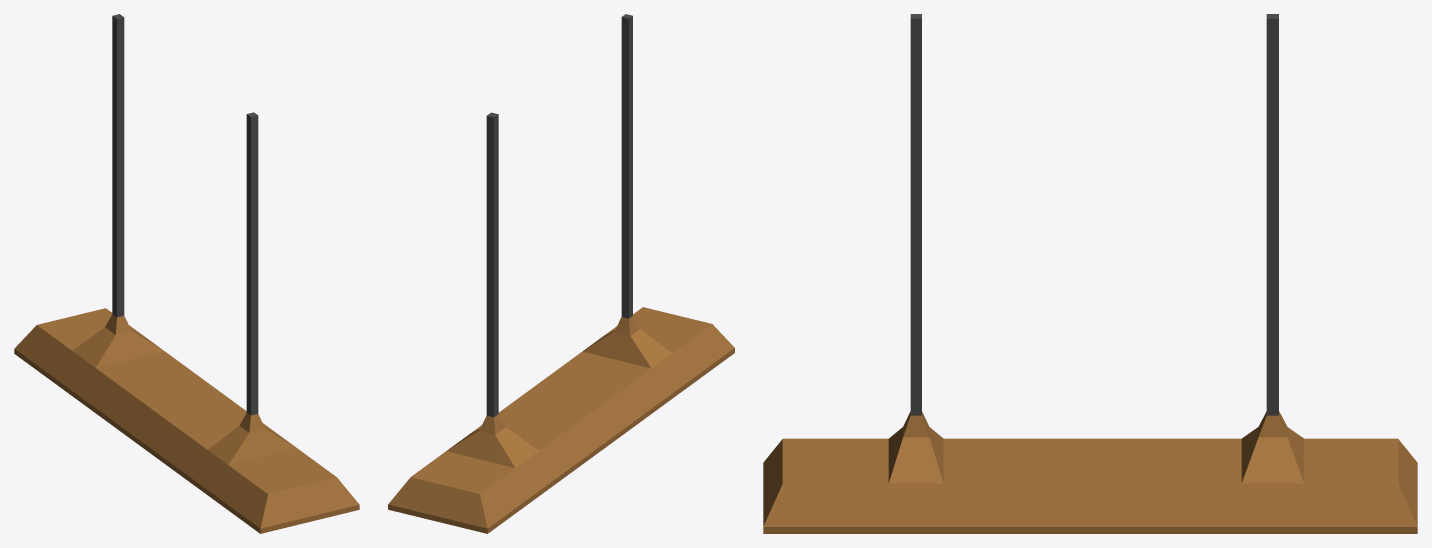
File: F11_CeilingLight.fbx
The picture shows the model from 3 angles, left to right: view 1: azimuth 30°, elevation 25°; view 2: azimuth 150°, elevation 25°; view 3: azimuth 270°, elevation 25°; orthographic projection. The views are drawn at different scales.
Parts seen in each view (by area): view 1: CeilingLight1; view 2: CeilingLight1; view 3: CeilingLight1.
Part boxes in pixels (box(x1,y1,x2,y2)): CeilingLight1: box(14, 14, 359, 533); CeilingLight1: box(388, 14, 734, 533); CeilingLight1: box(763, 14, 1417, 533).
Bounding box in the file's own units: 0.7726 × 2.72 × 3.32.
